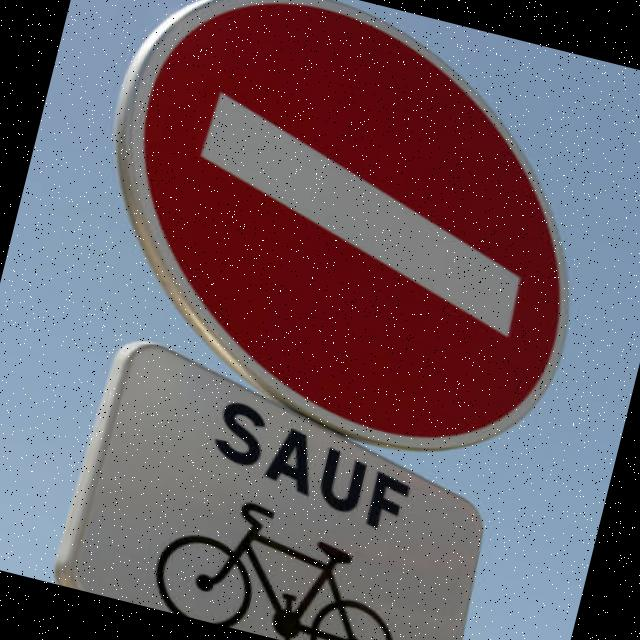do_not_enter: (47, 0, 640, 514)
